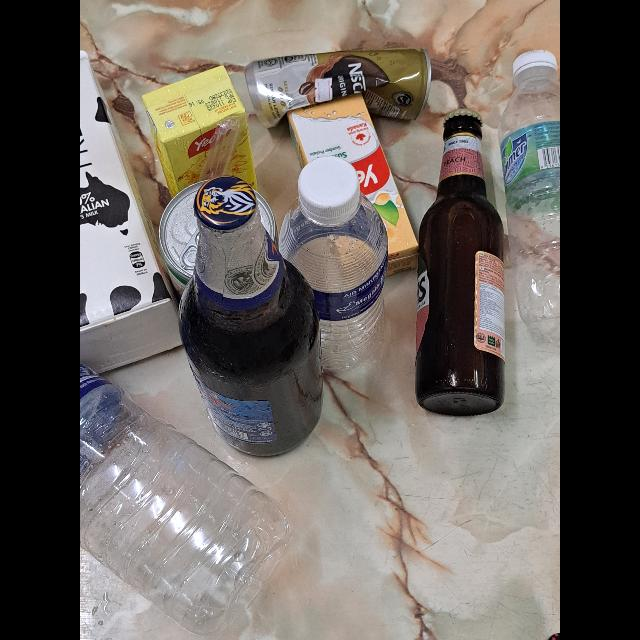aba de lata: (180, 228, 203, 270)
caixinha: (80, 49, 184, 377), (290, 92, 420, 274), (141, 66, 261, 200)
garrafa de vidro: (180, 174, 326, 456), (417, 110, 505, 416)
garrafa plástica: (80, 360, 292, 638), (280, 200, 388, 370), (500, 74, 560, 342)
lata: (242, 50, 430, 128), (158, 180, 278, 298)
tampa plástica: (296, 156, 362, 224), (513, 49, 559, 80)
